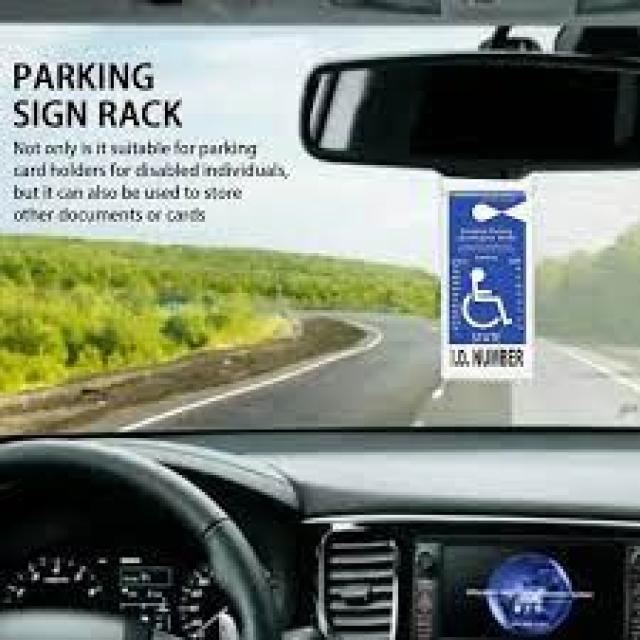car-handicap-placard: (462, 269, 514, 330)
